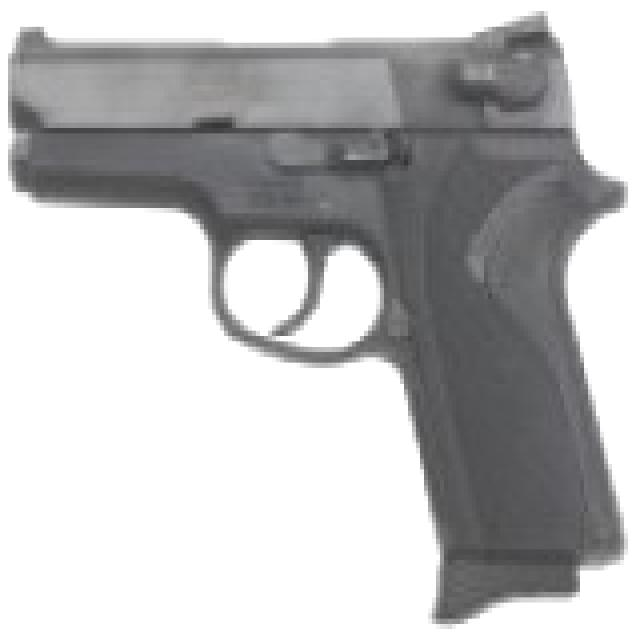pistol: (12, 5, 620, 624)
